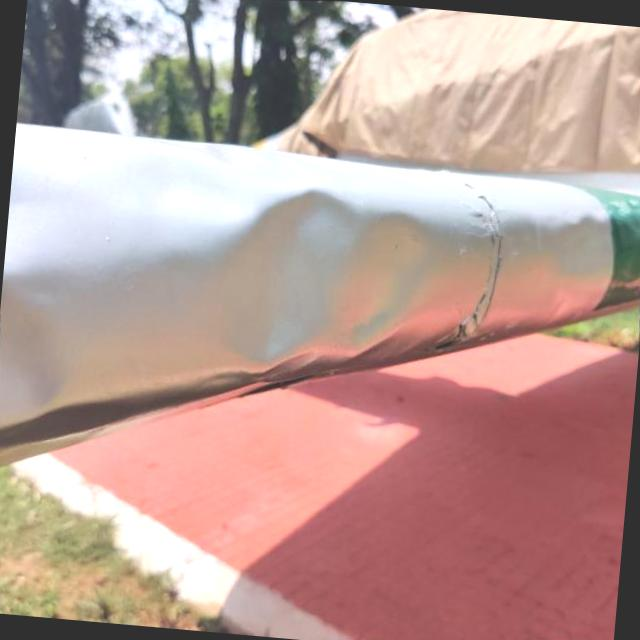dent: (193, 179, 477, 407), (524, 192, 640, 298), (0, 281, 69, 430)
